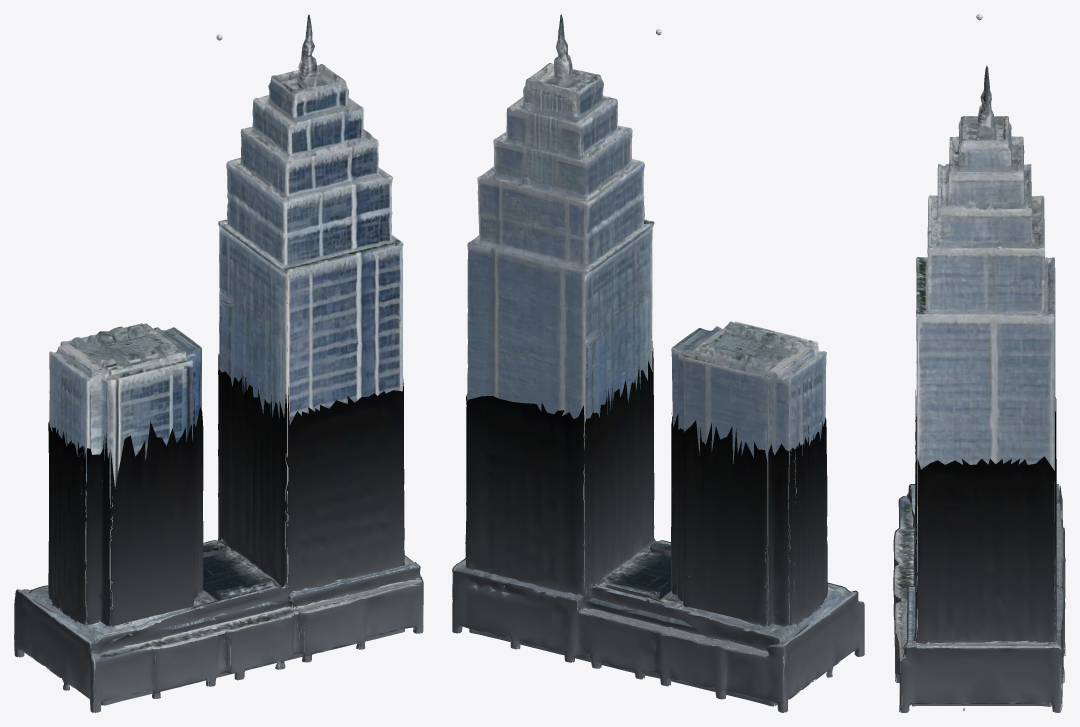
File: decomall.glb
3 views of the same model, side by side, from view 1: azimuth 30°, elevation 25°; view 2: azimuth 150°, elevation 25°; view 3: azimuth 270°, elevation 25° (orthographic).
Visible parts, largest first — view 1: Accent, Body; view 2: Accent, Body; view 3: Body, Accent.
Part boxes in pixels (bbox=[...]): Accent: bbox=[14, 353, 423, 712]; Body: bbox=[17, 14, 421, 711]; Accent: bbox=[452, 341, 864, 712]; Body: bbox=[453, 14, 861, 711]; Body: bbox=[894, 65, 1064, 711]; Accent: bbox=[893, 390, 1065, 712].
Size of the model in its own units: 109 by 192 by 48.44.
Materials: 4 (2 with a texture image).
